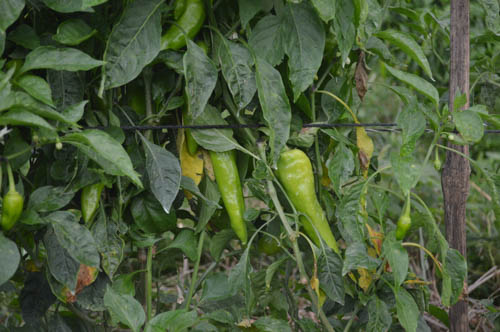ChiliPepper: (281, 149, 338, 253), (211, 145, 250, 242), (160, 4, 207, 52), (78, 180, 105, 224), (4, 195, 25, 232)
